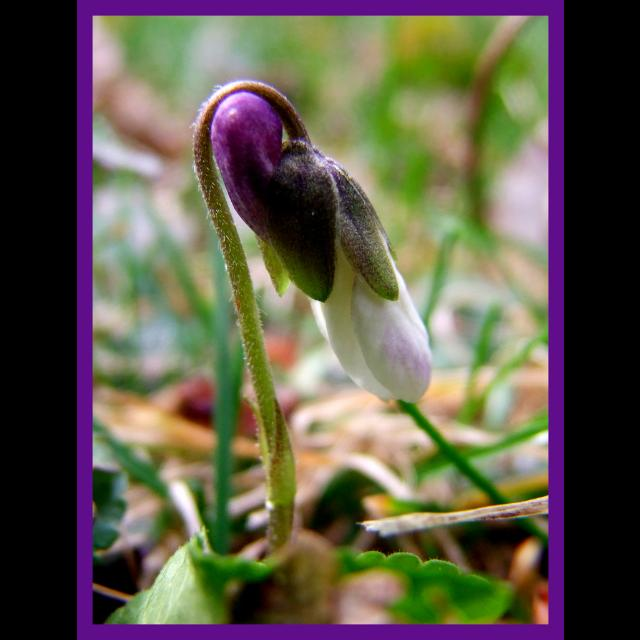Flower: (198, 70, 416, 358)
